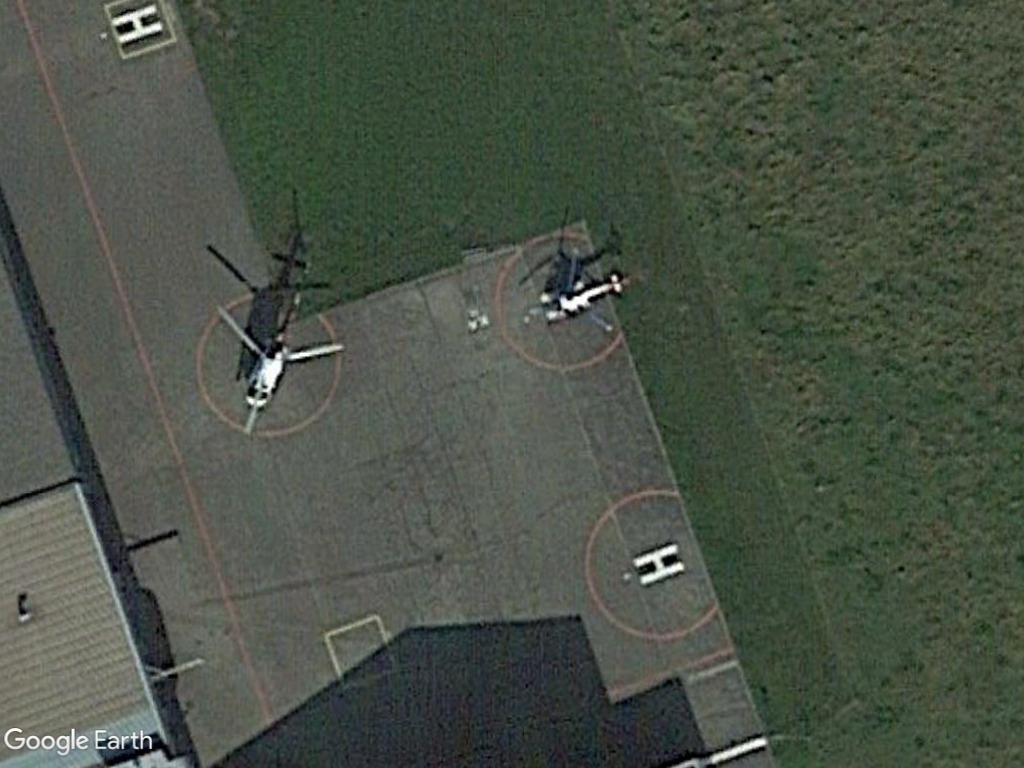helicopter: (206, 243, 357, 441), (523, 247, 651, 348)
